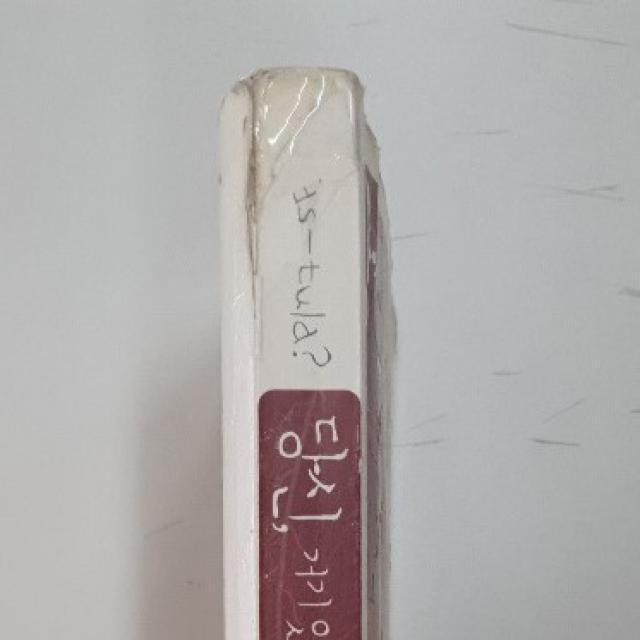Ripped: (216, 57, 311, 337), (313, 56, 374, 176)
